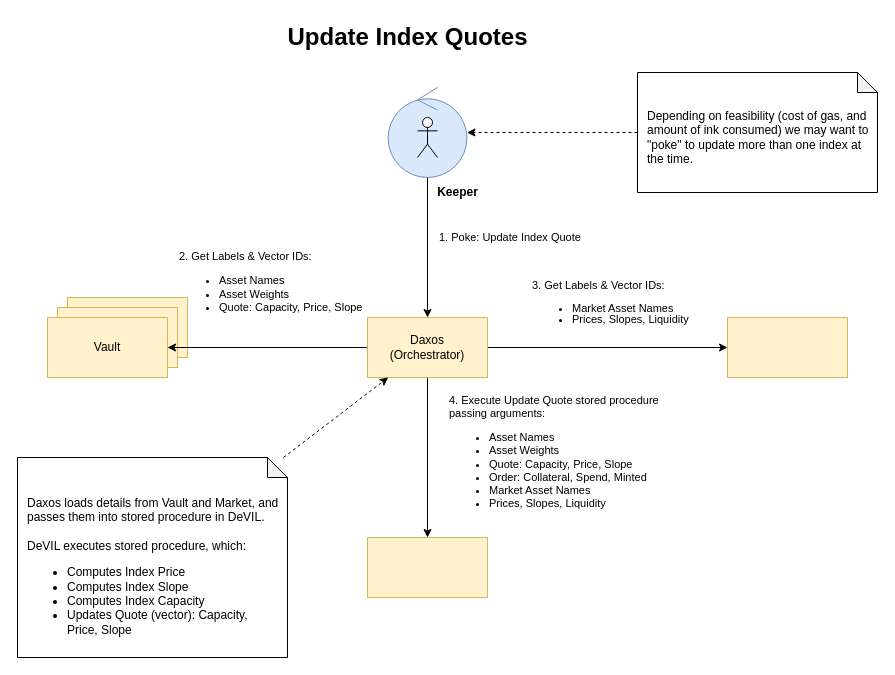
The diagram is 895 pixels wide and 675 high, and some of its shapes have lost their labels. Each missing label, with the centre of its shape:
DeVIL (Vector Math): (427,567)
Market: (787,347)
